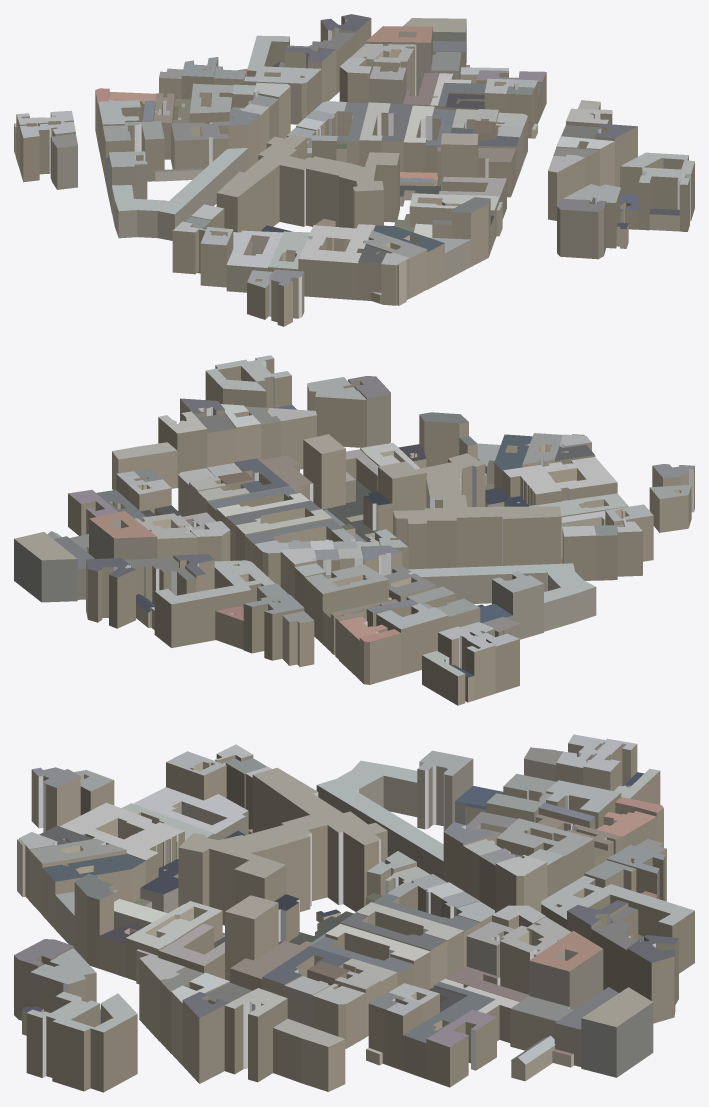
3 views of the same model, one above another, from view 1: azimuth 30°, elevation 25°; view 2: azimuth 150°, elevation 25°; view 3: azimuth 270°, elevation 25° (orthographic). The views are drawn at different scales.
Visible parts, largest first — view 1: tuile; view 2: tuile; view 3: tuile.
Boxes of the visible parts, x1,y1,x2,y2 form: tuile: (14,14,694,326); tuile: (14,355,694,705); tuile: (14,734,694,1092).
Size of the model in its own units: 277 by 34.51 by 266.
